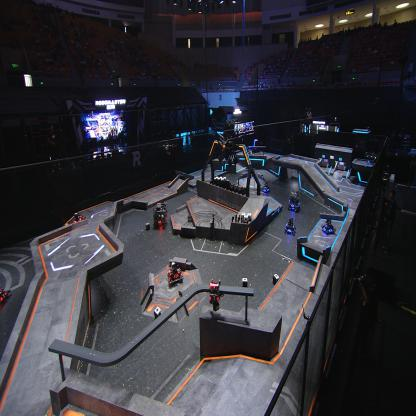car: (152, 201, 168, 229), (0, 274, 10, 318), (166, 262, 184, 286), (288, 188, 300, 211), (321, 216, 335, 235), (284, 217, 296, 235), (73, 212, 86, 226), (261, 180, 270, 194), (248, 167, 256, 180)
